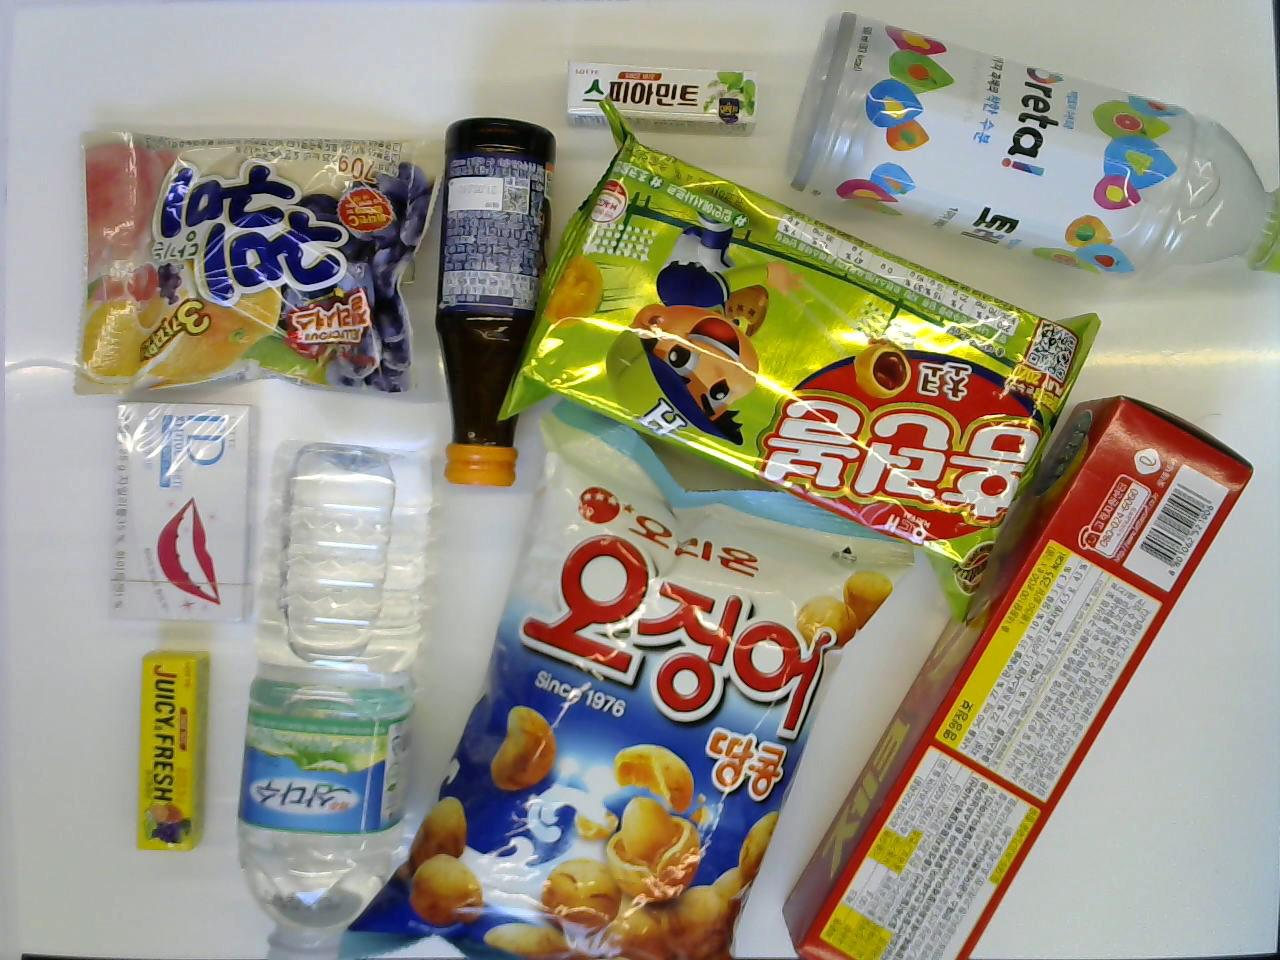ID_gum: (104, 390, 256, 628)
gumi_gumi: (80, 128, 421, 389)
homerunball: (490, 96, 1116, 628)
juicyfresh: (133, 645, 218, 855)
samdasu: (245, 433, 443, 960)
spearmint: (557, 52, 758, 134)
squid_peanut: (351, 378, 914, 960)
toreta: (770, 6, 1280, 285)
vita500: (429, 112, 567, 494)
zec: (775, 385, 1259, 960)
